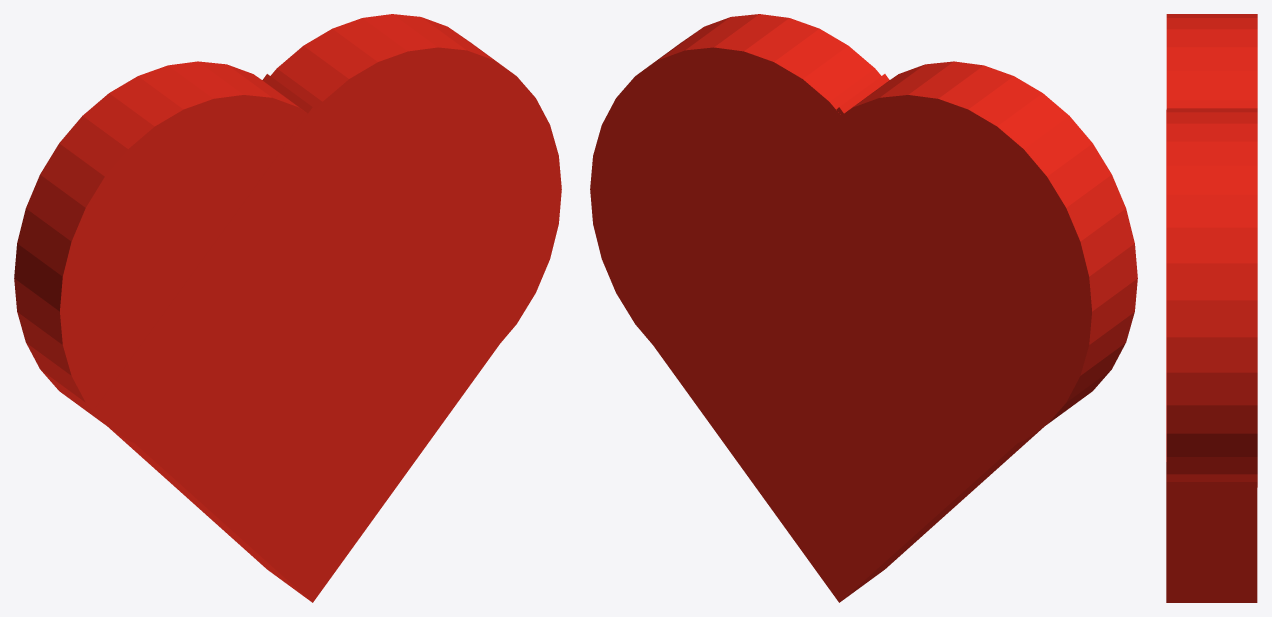
File: heart.fbx
3 renders of one model, left to right at view 1: azimuth 30°, elevation 25°; view 2: azimuth 150°, elevation 25°; view 3: azimuth 270°, elevation 25°, orthographic.
Parts seen in each view (by area): view 1: Cylinder.001; view 2: Cylinder.001; view 3: Cylinder.001.
Boxes of the visible parts, bbox=[...] form: Cylinder.001: bbox=[14, 14, 561, 602]; Cylinder.001: bbox=[590, 14, 1137, 602]; Cylinder.001: bbox=[1166, 14, 1257, 602].
Size of the model in its own units: 330 by 331 by 52.08.
